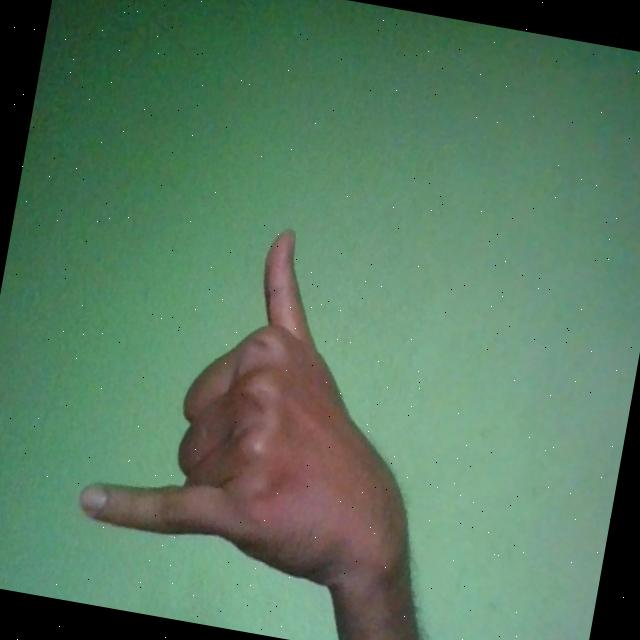Call Me: (71, 199, 460, 602)
